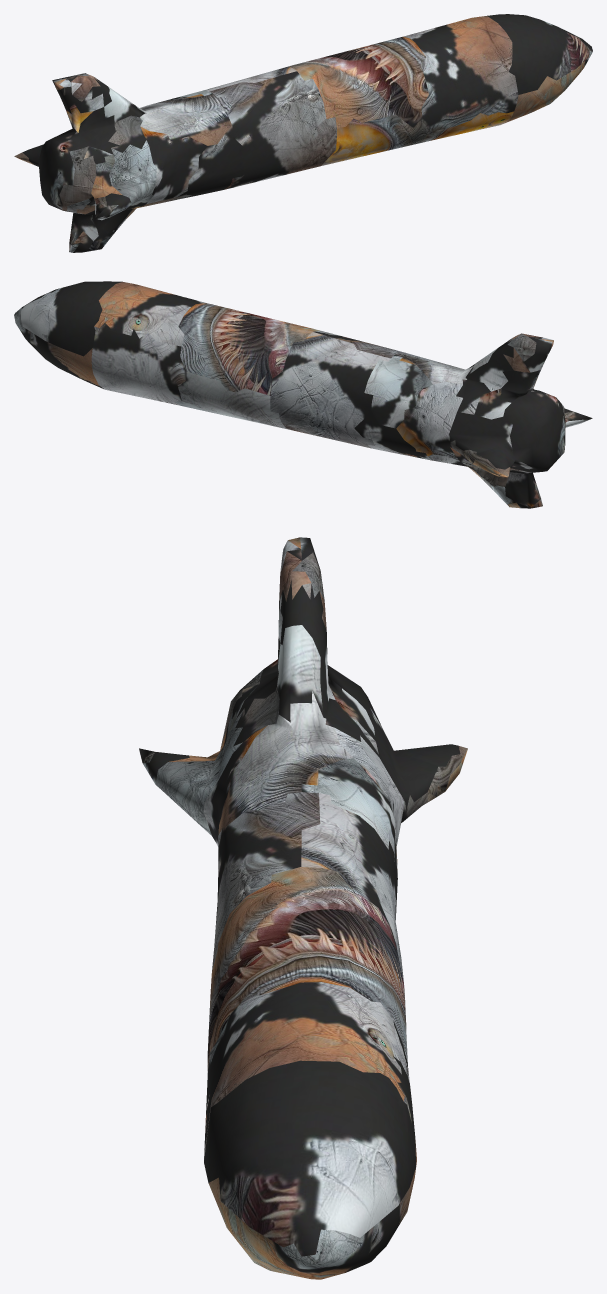
Rendered from missile.obj.
The picture shows the model from 3 angles, top to bottom: view 1: azimuth 30°, elevation 25°; view 2: azimuth 150°, elevation 25°; view 3: azimuth 270°, elevation 25°; orthographic projection. The views are drawn at different scales.
Visible parts, largest first — view 1: Mesh_0; view 2: Mesh_0; view 3: Mesh_0.
Boxes of the visible parts, left/top/right/bottom form: Mesh_0: left=14, top=14, right=592, bottom=252; Mesh_0: left=14, top=281, right=592, bottom=508; Mesh_0: left=139, top=537, right=467, bottom=1279.
Size of the model in its own units: 1.2 by 0.3687 by 0.3169.
